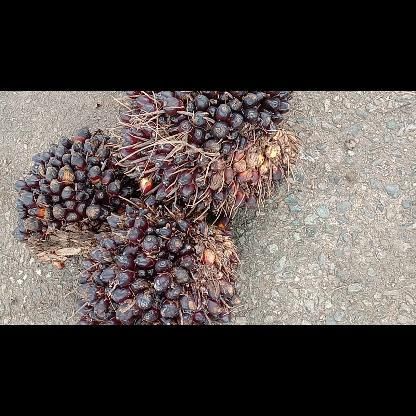TBS mentah: (72, 194, 240, 324), (117, 92, 293, 214), (12, 127, 132, 267)
